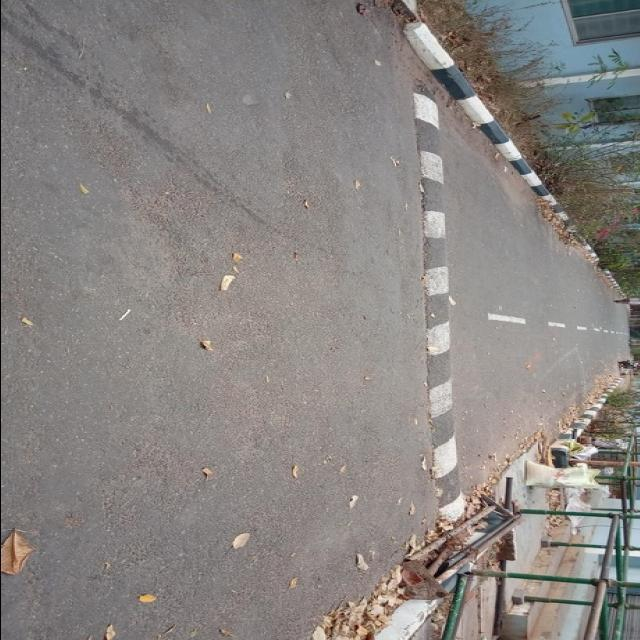speedbreaker: (389, 89, 479, 504)
